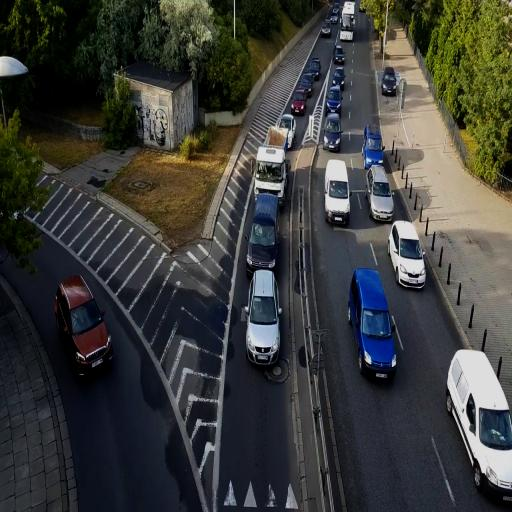vehicle: (446, 347, 512, 505), (54, 274, 114, 381), (348, 267, 400, 382), (245, 143, 286, 275), (244, 269, 282, 367), (246, 189, 280, 274), (388, 221, 426, 290), (254, 144, 288, 200), (324, 158, 350, 227), (367, 163, 394, 223), (362, 123, 384, 169), (322, 110, 342, 152), (277, 112, 296, 150), (381, 67, 398, 96), (290, 90, 306, 116), (333, 45, 345, 65)
